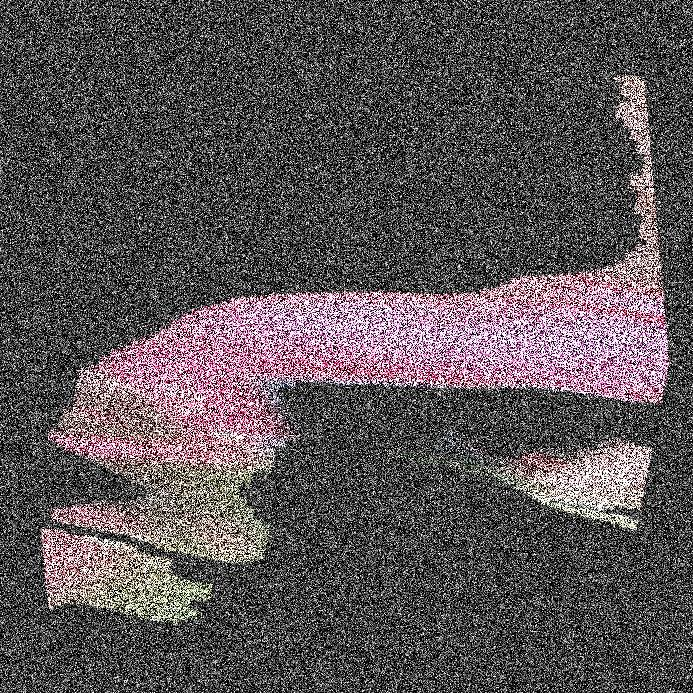Pessoa: (586, 0, 642, 692)
